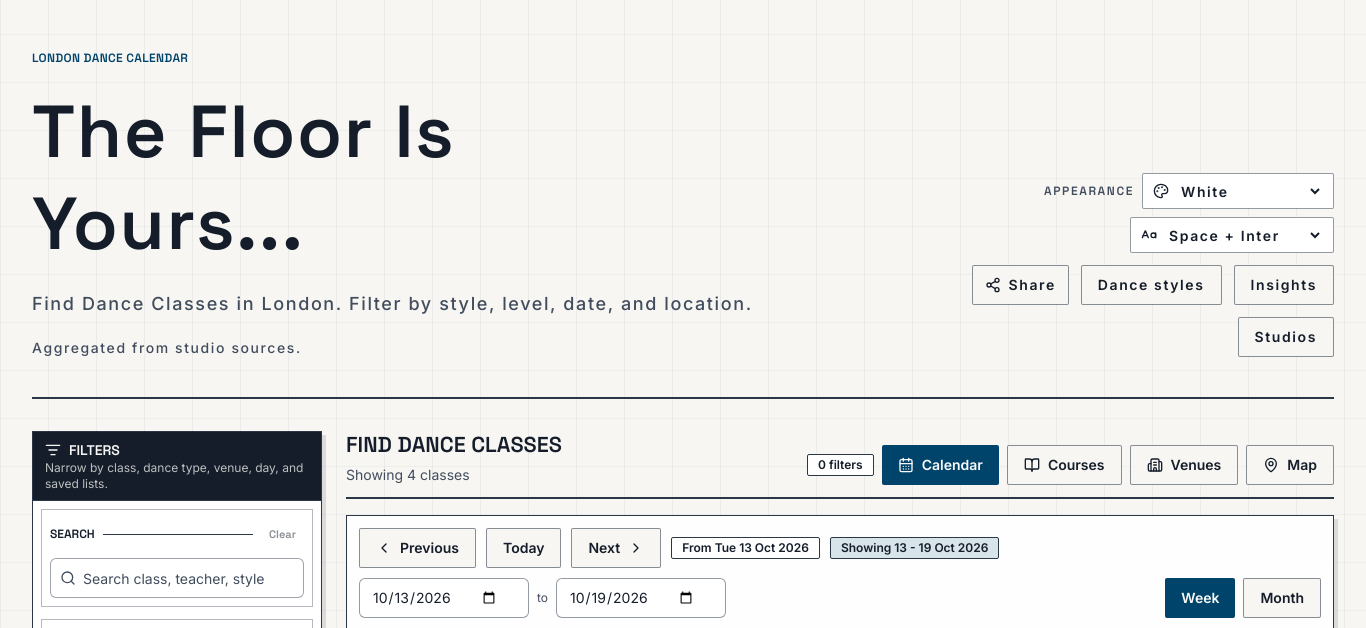
Scenario: CalendarPage › clears active filters in one action
This screenshot has width=1366, height=628.
Type "technique" into the field with placeholder "Search class, teacher, style" at (177, 578), box [50, 558, 304, 598]
(page scrolled)
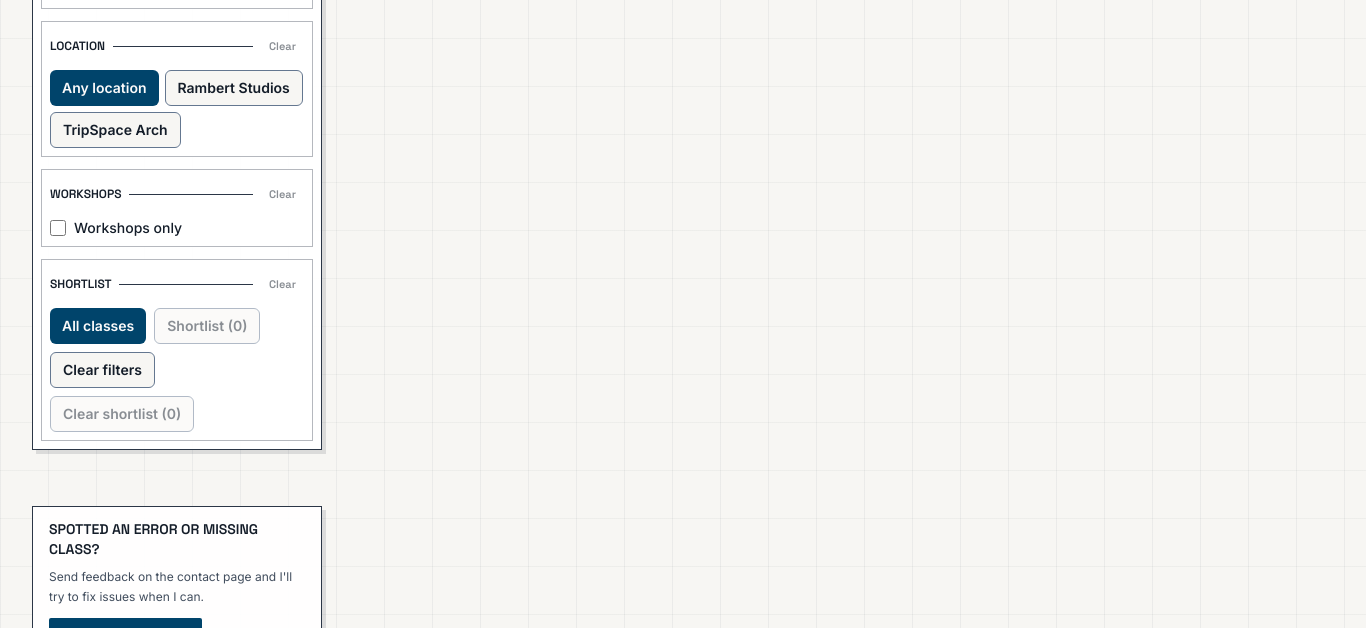
Expected: the button "Clear filters" is enabled
Click the button "Clear filters" at (102, 370), box [50, 352, 155, 388]
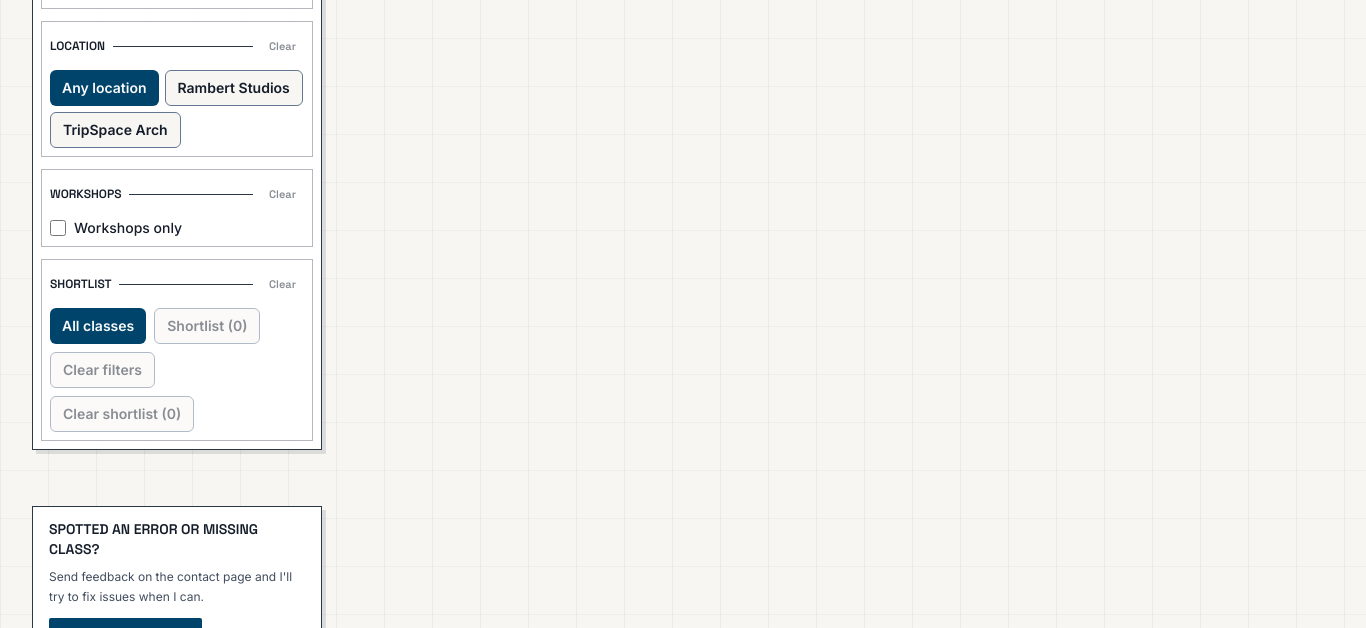
Expected: the button "Clear filters" is disabled, [50, 352, 155, 388]
